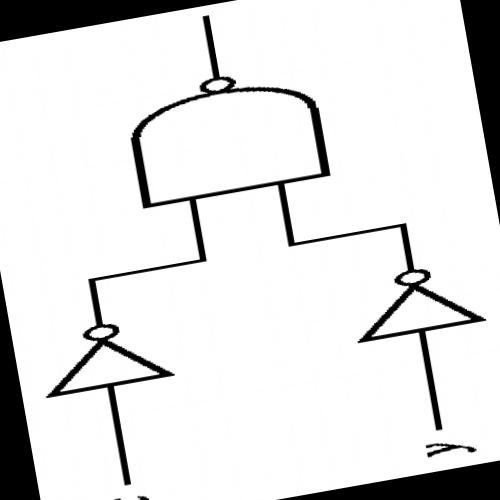nand: (112, 55, 338, 213)
not: (335, 252, 492, 348), (26, 308, 182, 402)
